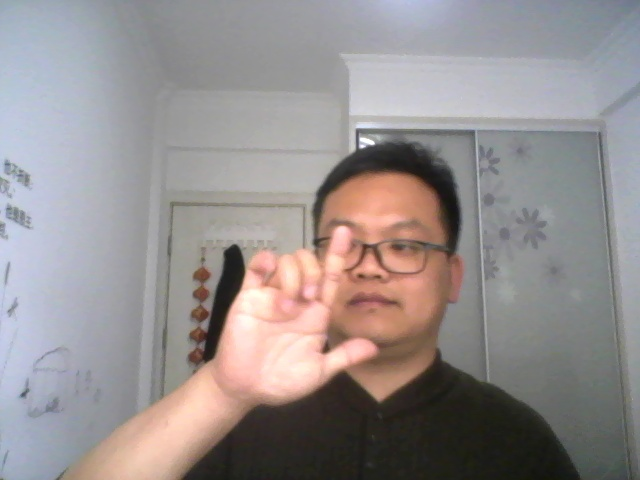I Love You: (205, 223, 383, 412)
